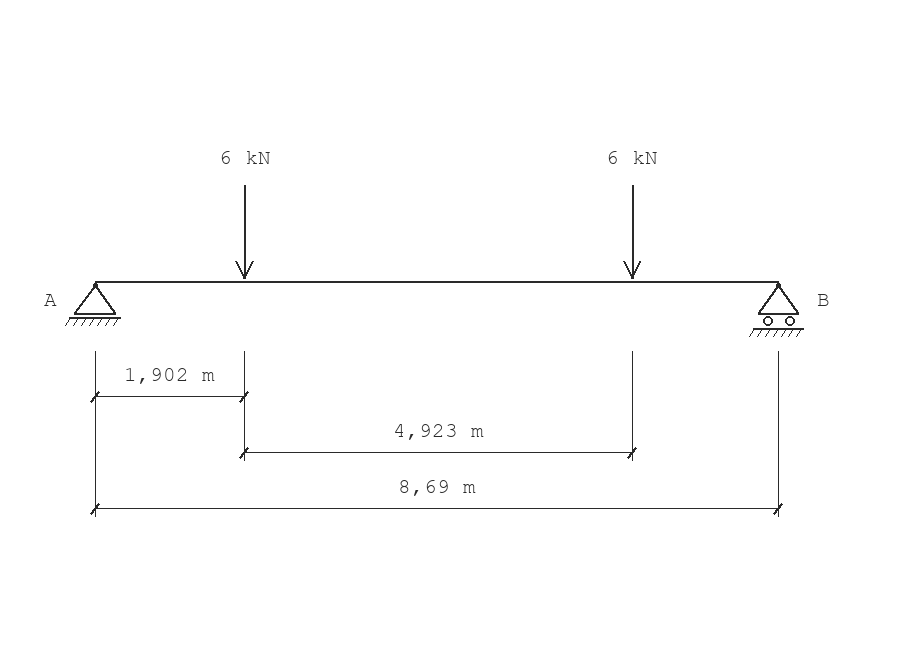pin_support: (65, 283, 121, 326)
point_load: (235, 185, 254, 279), (623, 185, 641, 279)
roller_support: (749, 283, 804, 337)
